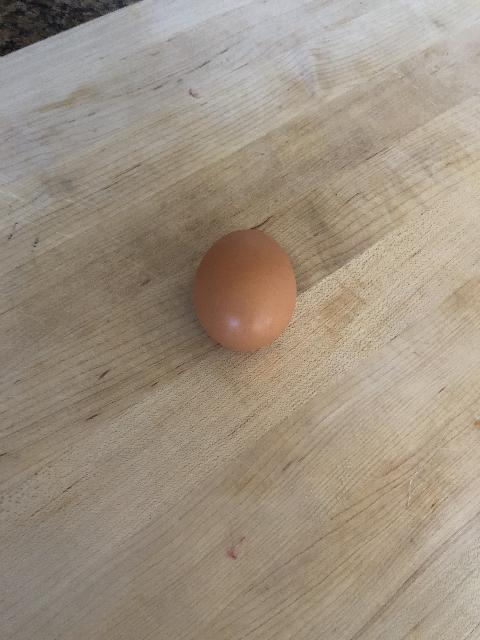Sano: (192, 228, 297, 352)
